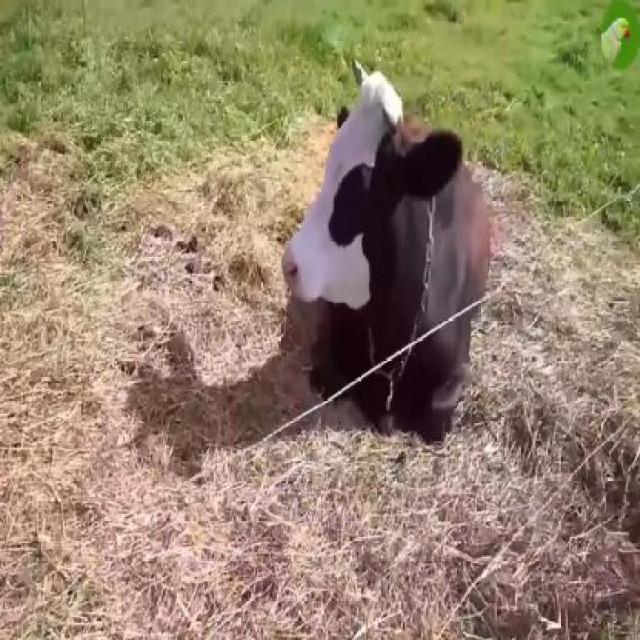Cow: (282, 56, 492, 430)
